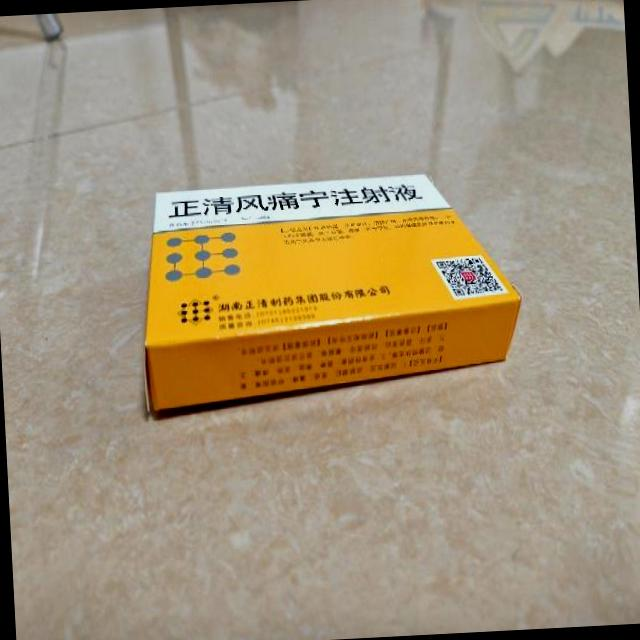box: (134, 168, 528, 418)
